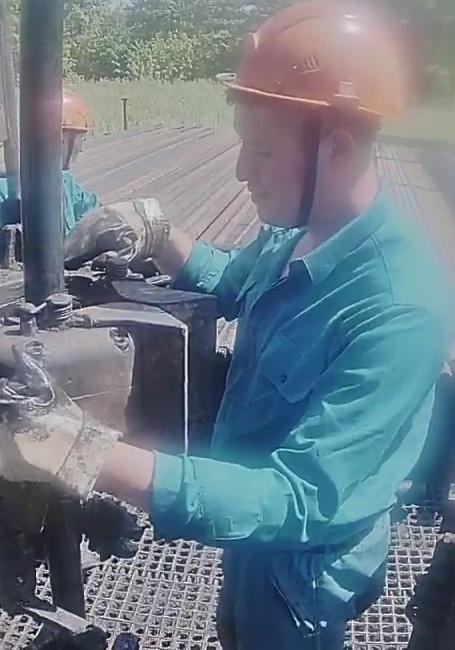gloves: (0, 338, 120, 505), (60, 193, 181, 272)
helmet: (213, 1, 413, 124), (63, 86, 95, 139)
vest: (212, 224, 448, 570)
